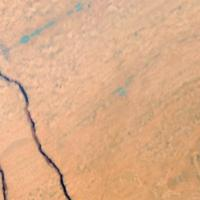crack: (0, 29, 74, 199)
